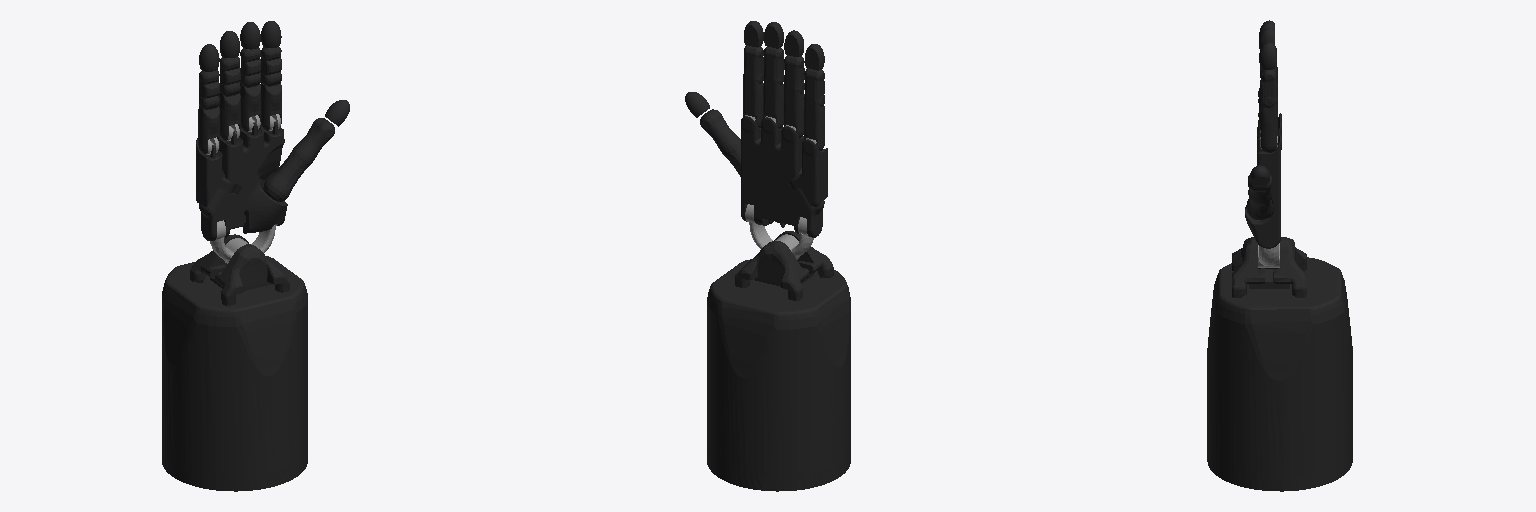
--- Facts derived from the render (not from the file) ---
3 views of the same robot in one strip: view 1: azimuth 30°, elevation 25°; view 2: azimuth 150°, elevation 25°; view 3: azimuth 270°, elevation 25° (orthographic).
Robot: shadowhand_motor — 30 links, 29 joints (24 revolute, 5 fixed); root link forearm; default pose: every joint at zero.
Visible links, largest first — view 1: forearm, palm, lfmetacarpal, thproximal, thmiddle, wrist, lfproximal, ffproximal, rfproximal, ffmiddle, rfmiddle, lfmiddle (+2 smaller); view 2: forearm, palm, lfmetacarpal, wrist, thmiddle, lfproximal, mfproximal, rfproximal, ffproximal, rfmiddle, mfmiddle, lfmiddle (+1 smaller); view 3: forearm, palm, ffproximal, ffmiddle.
Boxes of the visible links, x1,y1,x2,y2 form: forearm: (162, 234, 307, 491); palm: (199, 122, 287, 240); lfmetacarpal: (196, 138, 236, 206); thproximal: (263, 150, 308, 202); thmiddle: (293, 118, 334, 165); wrist: (210, 220, 277, 263); lfproximal: (198, 105, 219, 154); ffproximal: (260, 82, 281, 130); rfproximal: (219, 92, 240, 140); ffmiddle: (261, 47, 281, 86); rfmiddle: (220, 57, 240, 96); lfmiddle: (199, 70, 219, 109); forearm: (707, 231, 850, 491); palm: (741, 116, 824, 237); lfmetacarpal: (788, 139, 827, 206); wrist: (745, 204, 813, 259); thmiddle: (700, 109, 740, 156); lfproximal: (804, 101, 824, 150); mfproximal: (763, 79, 783, 128); rfproximal: (784, 87, 804, 137); ffproximal: (743, 78, 763, 127); rfmiddle: (784, 55, 804, 93); mfmiddle: (763, 46, 784, 84); lfmiddle: (804, 68, 824, 106); forearm: (1207, 237, 1352, 491); palm: (1245, 114, 1281, 248); ffproximal: (1258, 101, 1277, 152); ffmiddle: (1260, 68, 1277, 107).
Bounding box of the posed robot: 0.1788 × 0.1351 × 0.4478 m (x, y, z).
23 mesh visuals loaded from 10 distinct referenced files (10 OBJ).

robot.urdf — shadowhand_motor:
<?xml version="1.0" ?>
<!-- =================================================================================== -->
<!-- |    This document was autogenerated by xacro from robots/shadowhand_motor_ellipsoid.urdf.xacro | -->
<!-- |    EDITING THIS FILE BY HAND IS NOT RECOMMENDED                                 | -->
<!-- =================================================================================== -->
<robot name="shadowhand_motor" xmlns:body="http://playerstage.sourceforge.net/gazebo/xmlschema/#body" xmlns:controller="http://playerstage.sourceforge.net/gazebo/xmlschema/#controller" xmlns:geom="http://playerstage.sourceforge.net/gazebo/xmlschema/#geom" xmlns:interface="http://playerstage.sourceforge.net/gazebo/xmlschema/#interface" xmlns:joint="http://playerstage.sourceforge.net/gazebo/xmlschema/#slider" xmlns:sensor="http://playerstage.sourceforge.net/gazebo/xmlschema/#sensor" xmlns:xacro="http://ros.org/wiki/xacro">
  <material name="Blue">
    <color rgba="0.0 0.0 0.8 1.0"/>
  </material>
  <material name="Green">
    <color rgba="0.0 0.8 0.0 1.0"/>
  </material>
  <material name="BiotacGreen">
    <color rgba="0.31 0.85 0.42 1.0"/>
  </material>
  <material name="Grey">
    <color rgba="0.2 0.2 0.2 1.0"/>
  </material>
  <material name="LightGrey">
    <color rgba="0.6 0.6 0.6 1.0"/>
  </material>
  <material name="Red">
    <color rgba="0.8 0.0 0.0 1.0"/>
  </material>
  <material name="White">
    <color rgba="1.0 1.0 1.0 1.0"/>
  </material>
  <gazebo>
    <controller:sr_gazebo_ros_controller_manager name="sr_gazebo_ros_controller_manager" plugin="libsr_gazebo_ros_controller_manager.so">
      <alwaysOn>true</alwaysOn>
      <updateRate>1000.0</updateRate>
    </controller:sr_gazebo_ros_controller_manager>
  </gazebo>
  <link name="forearm">
    <inertial>
      <origin rpy="0 0 0" xyz="0 0 0.09"/>
      <mass value="3.0"/>
      <inertia ixx="1.0" ixy="0.0" ixz="0.0" iyy="1.0" iyz="0.0" izz="1.0"/>
    </inertial>
    <visual>
      <origin rpy="0 0 0" xyz="0 0 0"/>
      <geometry name="shadow_forearm_geom">
        <mesh filename="meshes/forearm.obj" />
      </geometry>
      <material name="Grey"/>
    </visual>
    <collision>
      <origin rpy="0 0 0" xyz="0 0 0.09"/>
      <geometry name="shadow_forearm_collision">
        <cylinder length="0.180" radius="0.06"/>
      </geometry>
    </collision>
  </link>
  <gazebo reference="forearm">
    <material>Gazebo/Grey</material>
    <selfCollide>false</selfCollide>
  </gazebo>
  <link name="wrist">
    <inertial>
      <origin rpy="0 0 0" xyz="0 0.0 0.0"/>
      <!--<insert_block name="origin" />-->
      <mass value="0.1"/>
      <inertia ixx="0.120" ixy="0.0" ixz="0.0" iyy="0.148" iyz="0.0" izz="0.0438"/>
    </inertial>
    <visual>
      <origin rpy="0 0 0" xyz="0 0 0"/>
      <geometry name="wrist_visual">
        <mesh filename="meshes/wrist.obj" />
      </geometry>
      <material name="LightGrey"/>
    </visual>
    <collision>
      <origin rpy="0 0 0" xyz="0 0 0"/>
      <geometry name="wrist_collision_geom">
        <box size="0.02 0.02 0.02"/>
      </geometry>
    </collision>
  </link>
  <gazebo reference="wrist">
    <material>PR2/Grey2</material>
    <selfCollide>false</selfCollide>
  </gazebo>
  <joint name="WRJ2" type="revolute">
    <parent link="forearm"/>
    <child link="wrist"/>
    <!--<origin xyz="0 -0.010 0.213" rpy="0 0 0" />-->
    <origin rpy="0 0 0" xyz="0 -0.010 0.213"/>
    <axis xyz="0 1 0"/>
    <limit effort="5" lower="-0.52359877559829882" upper="0.17453292519943295" velocity="1.0"/>
    <dynamics damping="100.5"/>
  </joint>
  <transmission name="wrist_transmission" type="sr_mechanism_meshes/SimpleTransmission">
    <actuator name="WRJ2"/>
    <joint name="WRJ2"/>
    <mechanicalReduction>1</mechanicalReduction>
    <motorTorqueConstant>1</motorTorqueConstant>
    <pulsesPerRevolution>90000</pulsesPerRevolution>
  </transmission>
  <link name="palm">
    <inertial>
      <origin rpy="0 0 0" xyz="0 0 0.035"/>
      <mass value="0.3"/>
      <inertia ixx="0.5" ixy="0.0" ixz="0.0" iyy="0.5" iyz="0.0" izz="0.3"/>
    </inertial>
    <visual>
      <origin rpy="0 0 0" xyz="0 0 0"/>
      <geometry name="palm_visual">
        <mesh filename="meshes/palm.obj" />
      </geometry>
      <material name="Grey"/>
    </visual>
    <collision>
      <origin rpy="0 0 0" xyz="0.005 0 0.035"/>
      <geometry name="palm_collision_geom">
        <box size="0.05 0.02 0.07"/>
      </geometry>
    </collision>
  </link>
  <gazebo reference="palm">
    <sensor:contact name="palm_contact_sensor">
      <geom>palm_geom</geom>
      <updateRate>100.0</updateRate>
      <controller:gazebo_ros_bumper name="palm_gazebo_ros_bumper_controller" plugin="libgazebo_ros_bumper.so">
        <alwaysOn>true</alwaysOn>
        <updateRate>100.0</updateRate>
        <frameName>palm</frameName>
        <bumperTopicName>palm_bumper</bumperTopicName>
        <interface:bumper name="palm_gazebo_ros_bumper_iface"/>
      </controller:gazebo_ros_bumper>
    </sensor:contact>
    <material>Gazebo/Grey</material>
  </gazebo>
  <joint name="WRJ1" type="revolute">
    <parent link="wrist"/>
    <child link="palm"/>
    <origin rpy="0 0 0" xyz="0 0 0.034"/>
    <axis xyz="1 0 0"/>
    <limit effort="5" lower="-0.78539816339744828" upper="0.6108652381980153" velocity="1.0"/>
    <dynamics damping="100.5"/>
  </joint>
  <transmission name="palm_transmission" type="sr_mechanism_meshes/SimpleTransmission">
    <actuator name="WRJ1"/>
    <joint name="WRJ1"/>
    <mechanicalReduction>1</mechanicalReduction>
    <motorTorqueConstant>1</motorTorqueConstant>
    <pulsesPerRevolution>90000</pulsesPerRevolution>
  </transmission>
  <link name="ffknuckle">
    <inertial>
      <origin rpy="0 0 0" xyz="0 0 0"/>
      <!--<insert_block name="origin" /> -->
      <mass value="0.008"/>
      <inertia ixx="0.0" ixy="0.0" ixz="0.0" iyy="0.1" iyz="0.0" izz="0.0"/>
    </inertial>
    <visual>
      <origin rpy="0 0 0" xyz="0 0 0.0005"/>
      <geometry name="knuckle_visual">
        <mesh filename="meshes/knuckle.obj" />
      </geometry>
      <material name="LightGrey"/>
    </visual>
    <collision>
      <origin rpy="0 0 0" xyz="0 0 0"/>
      <geometry name="knuckle_collision_geom">
        <box size="0.005 0.005 0.005"/>
      </geometry>
    </collision>
  </link>
  <gazebo reference="ffknuckle">
    <sensor:contact name="ffknuckle_contact_sensor">
      <geom>ffknuckle_geom</geom>
      <updateRate>100.0</updateRate>
      <controller:gazebo_ros_bumper name="ffknuckle_gazebo_ros_bumper_controller" plugin="libgazebo_ros_bumper.so">
        <alwaysOn>true</alwaysOn>
        <updateRate>100.0</updateRate>
        <frameName>ffknuckle</frameName>
        <bumperTopicName>ffknuckle_bumper</bumperTopicName>
        <interface:bumper name="ffknuckle_gazebo_ros_bumper_iface"/>
      </controller:gazebo_ros_bumper>
    </sensor:contact>
    <material>PR2/Grey2</material>
  </gazebo>
  <joint name="FFJ4" type="revolute">
    <parent link="palm"/>
    <child link="ffknuckle"/>
    <!--<origin xyz="0.033 0 0.095" rpy="0 0 0" />-->
    <origin rpy="0 0 0" xyz="0.033 0 0.095"/>
    <axis xyz="0 -1 0"/>
    <limit effort="10" lower="-0.43633231299858238" upper="0.43633231299858238" velocity="1.0"/>
    <dynamics damping="50.5"/>
  </joint>
  <transmission name="ffknuckle_transmission" type="sr_mechanism_meshes/SimpleTransmission">
    <actuator name="FFJ4"/>
    <joint name="FFJ4"/>
    <mechanicalReduction>1</mechanicalReduction>
    <motorTorqueConstant>1</motorTorqueConstant>
    <pulsesPerRevolution>90000</pulsesPerRevolution>
  </transmission>
  <link name="ffproximal">
    <inertial>
      <mass value="0.014"/>
      <origin xyz="0 0 0.0225"/>
      <inertia ixx="0.1" ixy="0.0" ixz="0.0" iyy="0.1" iyz="0.0" izz="0.0"/>
    </inertial>
    <visual>
      <origin rpy="0 0 0" xyz="0 0 0"/>
      <geometry name="proximal_visual">
        <mesh filename="meshes/F3.obj" />
      </geometry>
      <material name="Grey"/>
    </visual>
    <collision>
      <origin rpy="0 0 0 " xyz="0 0 0.025"/>
      <geometry name="proximal_collision_geom">
        <box size="0.008 0.008 0.04"/>
      </geometry>
    </collision>
  </link>
  <gazebo reference="ffproximal">
    <sensor:contact name="ffproximal_contact_sensor">
      <geom>ffproximal_geom</geom>
      <updateRate>100.0</updateRate>
      <controller:gazebo_ros_bumper name="ffproximal_gazebo_ros_bumper_controller" plugin="libgazebo_ros_bumper.so">
        <alwaysOn>true</alwaysOn>
        <updateRate>100.0</updateRate>
        <frameName>ffproximal</frameName>
        <bumperTopicName>ffproximal_bumper</bumperTopicName>
        <interface:bumper name="ffproximal_gazebo_ros_bumper_iface"/>
      </controller:gazebo_ros_bumper>
    </sensor:contact>
    <material>Gazebo/Grey</material>
    <selfCollide>true</selfCollide>
  </gazebo>
  <joint name="FFJ3" type="revolute">
    <parent link="ffknuckle"/>
    <child link="ffproximal"/>
    <origin rpy="0 0 0" xyz="0 0 0"/>
    <axis xyz="1 0 0"/>
    <limit effort="10" lower="0" upper="1.57079632679" velocity="1.0"/>
    <dynamics damping="50.5"/>
  </joint>
  <transmission name="ffproximal_transmission" type="sr_mechanism_meshes/SimpleTransmission">
    <actuator name="FFJ3"/>
    <joint name="FFJ3"/>
    <mechanicalReduction>1</mechanicalReduction>
    <motorTorqueConstant>1</motorTorqueConstant>
    <pulsesPerRevolution>90000</pulsesPerRevolution>
  </transmission>
  <link name="ffmiddle">
    <inertial>
      <origin rpy="0 0 0" xyz="0 0 0.0125"/>
      <mass value="0.012"/>
      <inertia ixx="0.1" ixy="0.0" ixz="0.0" iyy="0.1" iyz="0.0" izz="0.0"/>
    </inertial>
    <visual>
      <origin rpy="0 0 0" xyz="0 0 0"/>
      <geometry name="middle_visual">
        <mesh filename="meshes/F2.obj" />
      </geometry>
      <material name="Grey"/>
    </visual>
    <collision>
      <origin rpy="0 0 0" xyz="0 0 0.0125"/>
      <geometry name="middle_collision_geom">
        <box size="0.008 0.008 0.015"/>
      </geometry>
    </collision>
  </link>
  <gazebo reference="ffmiddle">
    <sensor:contact name="ffmiddle_contact_sensor">
      <geom>ffmiddle_geom</geom>
      <updateRate>100.0</updateRate>
      <controller:gazebo_ros_bumper name="ffmiddle_gazebo_ros_bumper_controller" plugin="libgazebo_ros_bumper.so">
        <alwaysOn>true</alwaysOn>
        <updateRate>100.0</updateRate>
        <frameName>ffmiddle</frameName>
        <bumperTopicName>ffmiddle_bumper</bumperTopicName>
        <interface:bumper name="ffmiddle_gazebo_ros_bumper_iface"/>
      </controller:gazebo_ros_bumper>
    </sensor:contact>
    <material>Gazebo/Grey</material>
    <selfCollide>true</selfCollide>
  </gazebo>
  <joint name="FFJ2" type="revolute">
    <parent link="ffproximal"/>
    <child link="ffmiddle"/>
    <origin rpy="0 0 0" xyz="0 0 0.045"/>
    <axis xyz="1 0 0"/>
    <limit effort="10" lower="0" upper="1.57079632679" velocity="1.0"/>
    <dynamics damping="50.5"/>
  </joint>
  <transmission name="ffmiddle_transmission" type="sr_mechanism_meshes/J0Transmission">
    <actuator name="FFJ0"/>
    <joint1 name="FFJ1"/>
    <joint2 name="FFJ2"/>
    <mechanicalReduction>1</mechanicalReduction>
    <motorTorqueConstant>1</motorTorqueConstant>
    <pulsesPerRevolution>90000</pulsesPerRevolution>
  </transmission>
  <link name="ffdistal">
    <inertial>
      <mass value="0.010"/>
      <origin xyz="0 0 0.013"/>
      <inertia ixx="0.1" ixy="0.0" ixz="0.0" iyy="0.1" iyz="0.0" izz="0.0"/>
    </inertial>
    <visual>
      <origin rpy="0 0 0" xyz="0 0 0"/>
      <geometry name="distal_visual">
        <mesh filename="meshes/distal_ellipsoid.obj" />
      </geometry>
      <material name="Grey"/>
    </visual>
    <!--      <visual>
	   <origin xyz="0 0 0" rpy="0 0 0" />
	   <geometry name="nano17">
	   <mesh filename="meshes/nano17.obj"  />
	   </geometry>
	   <material name="Grey" />
	   </visual>-->
    <collision>
      <origin rpy="0 0 0" xyz="0 0 0"/>
      <geometry name="distal_collision_geom">
        <mesh filename="meshes/distal_ellipsoid.obj" />
      </geometry>
    </collision>
  </link>
  <gazebo reference="ffdistal">
    <sensor:contact name="ffdistal_contact_sensor">
      <geom>ffdistal_geom</geom>
      <updateRate>100.0</updateRate>
      <controller:gazebo_ros_bumper name="ffdistal_gazebo_ros_bumper_controller" plugin="libgazebo_ros_bumper.so">
        <alwaysOn>true</alwaysOn>
        <updateRate>100.0</updateRate>
        <frameName>ffdistal</frameName>
        <bumperTopicName>ffdistal_bumper</bumperTopicName>
        <interface:bumper name="ffdistal_gazebo_ros_bumper_iface"/>
      </controller:gazebo_ros_bumper>
    </sensor:contact>
    <mu1 value="500.0"/>
    <mu2 value="500.0"/>
    <kp value="10000000.0"/>
    <kd value="1.0"/>
    <material>Gazebo/Grey</material>
    <selfCollide>true</selfCollide>
  </gazebo>
  <joint name="FFJ1" type="revolute">
    <parent link="ffmiddle"/>
    <child link="ffdistal"/>
    <origin rpy="0 0 0" xyz="0 0 0.025"/>
    <axis xyz="1 0 0"/>
    <limit effort="10" lower="0" upper="1.57079632679" velocity="1.0"/>
    <dynamics damping="50.5"/>
  </joint>
  <link name="fftip">
    <inertial>
      <mass value="0.001"/>
      <inertia ixx="0.0" ixy="0.0" ixz="0.0" iyy="0.0" iyz="0.0" izz="0.0"/>
    </inertial>
  </link>
  <joint name="FFtip" type="fixed">
    <parent link="ffdistal"/>
    <child link="fftip"/>
    <origin rpy="0 0 0" xyz="0 0 0.026"/>
  </joint>
  <link name="mfknuckle">
    <inertial>
      <origin rpy="0 0 0" xyz="0 0 0"/>
      <!--<insert_block name="origin" /> -->
      <mass value="0.008"/>
      <inertia ixx="0.0" ixy="0.0" ixz="0.0" iyy="0.1" iyz="0.0" izz="0.0"/>
    </inertial>
    <visual>
      <origin rpy="0 0 0" xyz="0 0 0.0005"/>
      <geometry name="knuckle_visual">
        <mesh filename="meshes/knuckle.obj" />
      </geometry>
      <material name="LightGrey"/>
    </visual>
    <collision>
      <origin rpy="0 0 0" xyz="0 0 0"/>
      <geometry name="knuckle_collision_geom">
        <box size="0.005 0.005 0.005"/>
      </geometry>
    </collision>
  </link>
  <gazebo reference="mfknuckle">
    <sensor:contact name="mfknuckle_contact_sensor">
      <geom>mfknuckle_geom</geom>
      <updateRate>100.0</updateRate>
      <controller:gazebo_ros_bumper name="mfknuckle_gazebo_ros_bumper_controller" plugin="libgazebo_ros_bumper.so">
        <alwaysOn>true</alwaysOn>
        <updateRate>100.0</updateRate>
        <frameName>mfknuckle</frameName>
        <bumperTopicName>mfknuckle_bumper</bumperTopicName>
        <interface:bumper name="mfknuckle_gazebo_ros_bumper_iface"/>
      </controller:gazebo_ros_bumper>
    </sensor:contact>
    <material>PR2/Grey2</material>
  </gazebo>
  <joint name="MFJ4" type="revolute">
    <parent link="palm"/>
    <child link="mfknuckle"/>
    <!--<origin xyz="0.033 0 0.095" rpy="0 0 0" />-->
    <origin rpy="0 0 0" xyz="0.011 0 0.099"/>
    <axis xyz="0 -1 0"/>
    <limit effort="10" lower="-0.43633231299858238" upper="0.43633231299858238" velocity="1.0"/>
    <dynamics damping="50.5"/>
  </joint>
  <transmission name="mfknuckle_transmission" type="sr_mechanism_meshes/SimpleTransmission">
    <actuator name="MFJ4"/>
    <joint name="MFJ4"/>
    <mechanicalReduction>1</mechanicalReduction>
    <motorTorqueConstant>1</motorTorqueConstant>
    <pulsesPerRevolution>90000</pulsesPerRevolution>
  </transmission>
  <link name="mfproximal">
    <inertial>
      <mass value="0.014"/>
      <origin xyz="0 0 0.0225"/>
      <inertia ixx="0.1" ixy="0.0" ixz="0.0" iyy="0.1" iyz="0.0" izz="0.0"/>
    </inertial>
    <visual>
      <origin rpy="0 0 0" xyz="0 0 0"/>
      <geometry name="proximal_visual">
        <mesh filename="meshes/F3.obj" />
      </geometry>
      <material name="Grey"/>
    </visual>
    <collision>
      <origin rpy="0 0 0 " xyz="0 0 0.025"/>
      <geometry name="proximal_collision_geom">
        <box size="0.008 0.008 0.04"/>
      </geometry>
    </collision>
  </link>
  <gazebo reference="mfproximal">
    <sensor:contact name="mfproximal_contact_sensor">
      <geom>mfproximal_geom</geom>
      <updateRate>100.0</updateRate>
      <controller:gazebo_ros_bumper name="mfproximal_gazebo_ros_bumper_controller" plugin="libgazebo_ros_bumper.so">
        <alwaysOn>true</alwaysOn>
        <updateRate>100.0</updateRate>
        <frameName>mfproximal</frameName>
        <bumperTopicName>mfproximal_bumper</bumperTopicName>
        <interface:bumper name="mfproximal_gazebo_ros_bumper_iface"/>
      </controller:gazebo_ros_bumper>
    </sensor:contact>
    <material>Gazebo/Grey</material>
    <selfCollide>true</selfCollide>
  </gazebo>
  <joint name="MFJ3" type="revolute">
    <parent link="mfknuckle"/>
    <child link="mfproximal"/>
    <origin rpy="0 0 0" xyz="0 0 0"/>
    <axis xyz="1 0 0"/>
    <limit effort="10" lower="0" upper="1.57079632679" velocity="1.0"/>
    <dynamics damping="50.5"/>
  </joint>
  <transmission name="mfproximal_transmission" type="sr_mechanism_meshes/SimpleTransmission">
    <actuator name="MFJ3"/>
    <joint name="MFJ3"/>
    <mechanicalReduction>1</mechanicalReduction>
    <motorTorqueConstant>1</motorTorqueConstant>
    <pulsesPerRevolution>90000</pulsesPerRevolution>
  </transmission>
  <link name="mfmiddle">
    <inertial>
      <origin rpy="0 0 0" xyz="0 0 0.0125"/>
      <mass value="0.012"/>
      <inertia ixx="0.1" ixy="0.0" ixz="0.0" iyy="0.1" iyz="0.0" izz="0.0"/>
    </inertial>
    <visual>
      <origin rpy="0 0 0" xyz="0 0 0"/>
      <geometry name="middle_visual">
        <mesh filename="meshes/F2.obj" />
      </geometry>
      <material name="Grey"/>
    </visual>
    <collision>
      <origin rpy="0 0 0" xyz="0 0 0.0125"/>
      <geometry name="middle_collision_geom">
        <box size="0.008 0.008 0.015"/>
      </geometry>
    </collision>
  </link>
  <gazebo reference="mfmiddle">
    <sensor:contact name="mfmiddle_contact_sensor">
      <geom>mfmiddle_geom</geom>
      <updateRate>100.0</updateRate>
      <controller:gazebo_ros_bumper name="mfmiddle_gazebo_ros_bumper_controller" plugin="libgazebo_ros_bumper.so">
        <alwaysOn>true</alwaysOn>
        <updateRate>100.0</updateRate>
        <frameName>mfmiddle</frameName>
        <bumperTopicName>mfmiddle_bumper</bumperTopicName>
        <interface:bumper name="mfmiddle_gazebo_ros_bumper_iface"/>
      </controller:gazebo_ros_bumper>
    </sensor:contact>
    <material>Gazebo/Grey</material>
    <selfCollide>true</selfCollide>
  </gazebo>
  <joint name="MFJ2" type="revolute">
    <parent link="mfproximal"/>
    <child link="mfmiddle"/>
    <origin rpy="0 0 0" xyz="0 0 0.045"/>
    <axis xyz="1 0 0"/>
    <limit effort="10" lower="0" upper="1.57079632679" velocity="1.0"/>
    <dynamics damping="50.5"/>
  </joint>
  <transmission name="mfmiddle_transmission" type="sr_mechanism_meshes/J0Transmission">
    <actuator name="MFJ0"/>
    <joint1 name="MFJ1"/>
    <joint2 name="MFJ2"/>
    <mechanicalReduction>1</mechanicalReduction>
    <motorTorqueConstant>1</motorTorqueConstant>
    <pulsesPerRevolution>90000</pulsesPerRevolution>
  </transmission>
  <link name="mfdistal">
    <inertial>
      <mass value="0.010"/>
      <origin xyz="0 0 0.013"/>
      <inertia ixx="0.1" ixy="0.0" ixz="0.0" iyy="0.1" iyz="0.0" izz="0.0"/>
    </inertial>
    <visual>
      <origin rpy="0 0 0" xyz="0 0 0"/>
      <geometry name="distal_visual">
        <mesh filename="meshes/distal_ellipsoid.obj" />
      </geometry>
      <material name="Grey"/>
    </visual>
    <!--      <visual>
	   <origin xyz="0 0 0" rpy="0 0 0" />
	   <geometry name="nano17">
	   <mesh filename="meshes/nano17.obj"  />
	   </geometry>
	   <material name="Grey" />
	   </visual>-->
    <collision>
      <origin rpy="0 0 0" xyz="0 0 0"/>
      <geometry name="distal_collision_geom">
        <mesh filename="meshes/distal_ellipsoid.obj" />
      </geometry>
    </collision>
  </link>
  <gazebo reference="mfdistal">
    <sensor:contact name="mfdistal_contact_sensor">
      <geom>mfdistal_geom</geom>
      <updateRate>100.0</updateRate>
      <controller:gazebo_ros_bumper name="mfdistal_gazebo_ros_bumper_controller" plugin="libgazebo_ros_bumper.so">
        <alwaysOn>true</alwaysOn>
        <updateRate>100.0</updateRate>
        <frameName>mfdistal</frameName>
        <bumperTopicName>mfdistal_bumper</bumperTopicName>
        <interface:bumper name="mfdistal_gazebo_ros_bumper_iface"/>
      </controller:gazebo_ros_bumper>
    </sensor:contact>
    <mu1 value="500.0"/>
    <mu2 value="500.0"/>
    <kp value="10000000.0"/>
    <kd value="1.0"/>
    <material>Gazebo/Grey</material>
    <selfCollide>true</selfCollide>
  </gazebo>
  <joint name="MFJ1" type="revolute">
    <parent link="mfmiddle"/>
    <child link="mfdistal"/>
    <origin rpy="0 0 0" xyz="0 0 0.025"/>
    <axis xyz="1 0 0"/>
    <limit effort="10" lower="0" upper="1.57079632679" velocity="1.0"/>
    <dynamics damping="50.5"/>
  </joint>
  <link name="mftip">
    <inertial>
      <mass value="0.001"/>
      <inertia ixx="0.0" ixy="0.0" ixz="0.0" iyy="0.0" iyz="0.0" izz="0.0"/>
    </inertial>
  </link>
  <joint name="MFtip" type="fixed">
    <parent link="mfdistal"/>
    <child link="mftip"/>
    <origin rpy="0 0 0" xyz="0 0 0.026"/>
  </joint>
  <link name="rfknuckle">
    <inertial>
      <origin rpy="0 0 0" xyz="0 0 0"/>
      <!--<insert_block name="origin" /> -->
      <mass value="0.008"/>
      <inertia ixx="0.0" ixy="0.0" ixz="0.0" iyy="0.1" iyz="0.0" izz="0.0"/>
    </inertial>
    <visual>
      <origin rpy="0 0 0" xyz="0 0 0.0005"/>
      <geometry name="knuckle_visual">
        <mesh filename="meshes/knuckle.obj" />
      </geometry>
      <material name="LightGrey"/>
    </visual>
    <collision>
      <origin rpy="0 0 0" xyz="0 0 0"/>
      <geometry name="knuckle_collision_geom">
        <box size="0.005 0.005 0.005"/>
      </geometry>
    </collision>
  </link>
  <gazebo reference="rfknuckle">
    <sensor:contact name="rfknuckle_contact_sensor">
      <geom>rfknuckle_geom</geom>
      <updateRate>100.0</updateRate>
      <controller:gazebo_ros_bumper name="rfknuckle_gazebo_ros_bumper_controller" plugin="libgazebo_ros_bumper.so">
        <alwaysOn>true</alwaysOn>
        <updateRate>100.0</updateRate>
        <frameName>rfknuckle</frameName>
        <bumperTopicName>rfknuckle_bumper</bumperTopicName>
        <interface:bumper name="rfknuckle_gazebo_ros_bumper_iface"/>
      </controller:gazebo_ros_bumper>
    </sensor:contact>
    <material>PR2/Grey2</material>
  </gazebo>
  <joint name="RFJ4" type="revolute">
    <parent link="palm"/>
    <child link="rfknuckle"/>
    <!--<origin xyz="0.033 0 0.095" rpy="0 0 0" />-->
    <origin rpy="0 0 0" xyz="-0.011 0 0.095"/>
    <axis xyz="0 1 0"/>
    <limit effort="10" lower="-0.43633231299858238" upper="0.43633231299858238" velocity="1.0"/>
    <dynamics damping="50.5"/>
  </joint>
  <transmission name="rfknuckle_transmission" type="sr_mechanism_meshes/SimpleTransmission">
    <actuator name="RFJ4"/>
    <joint name="RFJ4"/>
    <mechanicalReduction>1</mechanicalReduction>
    <motorTorqueConstant>1</motorTorqueConstant>
    <pulsesPerRevolution>90000</pulsesPerRevolution>
  </transmission>
  <link name="rfproximal">
    <inertial>
      <mass value="0.014"/>
      <origin xyz="0 0 0.0225"/>
      <inertia ixx="0.1" ixy="0.0" ixz="0.0" iyy="0.1" iyz="0.0" izz="0.0"/>
    </inertial>
    <visual>
      <origin rpy="0 0 0" xyz="0 0 0"/>
      <geometry name="proximal_visual">
        <mesh filename="meshes/F3.obj" />
      </geometry>
      <material name="Grey"/>
    </visual>
    <collision>
      <origin rpy="0 0 0 " xyz="0 0 0.025"/>
      <geometry name="proximal_collision_geom">
        <box size="0.008 0.008 0.04"/>
      </geometry>
    </collision>
  </link>
  <gazebo reference="rfproximal">
    <sensor:contact name="rfproximal_contact_sensor">
      <geom>rfproximal_geom</geom>
      <updateRate>100.0</updateRate>
      <controller:gazebo_ros_bumper name="rfproximal_gazebo_ros_bumper_controller" plugin="libgazebo_ros_bumper.so">
        <alwaysOn>true</alwaysOn>
        <updateRate>100.0</updateRate>
        <frameName>rfproximal</frameName>
        <bumperTopicName>rfproximal_bumper</bumperTopicName>
        <interface:bumper name="rfproximal_gazebo_ros_bumper_iface"/>
      </controller:gazebo_ros_bumper>
    </sensor:contact>
    <material>Gazebo/Grey</material>
    <selfCollide>true</selfCollide>
  </gazebo>
  <joint name="RFJ3" type="revolute">
    <parent link="rfknuckle"/>
    <child link="rfproximal"/>
    <origin rpy="0 0 0" xyz="0 0 0"/>
    <axis xyz="1 0 0"/>
    <limit effort="10" lower="0" upper="1.57079632679" velocity="1.0"/>
    <dynamics damping="50.5"/>
  </joint>
  <transmission name="rfproximal_transmission" type="sr_mechanism_meshes/SimpleTransmission">
    <actuator name="RFJ3"/>
    <joint name="RFJ3"/>
    <mechanicalReduction>1</mechanicalReduction>
    <motorTorqueConstant>1</motorTorqueConstant>
    <pulsesPerRevolution>90000</pulsesPerRevolution>
  </transmission>
  <link name="rfmiddle">
    <inertial>
      <origin rpy="0 0 0" xyz="0 0 0.0125"/>
      <mass value="0.012"/>
      <inertia ixx="0.1" ixy="0.0" ixz="0.0" iyy="0.1" iyz="0.0" izz="0.0"/>
    </inertial>
    <visual>
      <origin rpy="0 0 0" xyz="0 0 0"/>
      <geometry name="middle_visual">
        <mesh filename="meshes/F2.obj" />
      </geometry>
      <material name="Grey"/>
    </visual>
    <collision>
      <origin rpy="0 0 0" xyz="0 0 0.0125"/>
      <geometry name="middle_collision_geom">
        <box size="0.008 0.008 0.015"/>
      </geometry>
    </collision>
  </link>
  <gazebo reference="rfmiddle">
    <sensor:contact name="rfmiddle_contact_sensor">
      <geom>rfmiddle_geom</geom>
      <updateRate>100.0</updateRate>
      <controller:gazebo_ros_bumper name="rfmiddle_gazebo_ros_bumper_controller" plugin="libgazebo_ros_bumper.so">
        <alwaysOn>true</alwaysOn>
        <updateRate>100.0</updateRate>
        <frameName>rfmiddle</frameName>
        <bumperTopicName>rfmiddle_bumper</bumperTopicName>
        <interface:bumper name="rfmiddle_gazebo_ros_bumper_iface"/>
      </controller:gazebo_ros_bumper>
    </sensor:contact>
    <material>Gazebo/Grey</material>
    <selfCollide>true</selfCollide>
  </gazebo>
  <joint name="RFJ2" type="revolute">
    <parent link="rfproximal"/>
    <child link="rfmiddle"/>
    <origin rpy="0 0 0" xyz="0 0 0.045"/>
    <axis xyz="1 0 0"/>
    <limit effort="10" lower="0" upper="1.57079632679" velocity="1.0"/>
    <dynamics damping="50.5"/>
  </joint>
  <transmission name="rfmiddle_transmission" type="sr_mechanism_meshes/J0Transmission">
    <actuator name="RFJ0"/>
    <joint1 name="RFJ1"/>
    <joint2 name="RFJ2"/>
    <mechanicalReduction>1</mechanicalReduction>
    <motorTorqueConstant>1</motorTorqueConstant>
    <pulsesPerRevolution>90000</pulsesPerRevolution>
  </transmission>
  <link name="rfdistal">
    <inertial>
      <mass value="0.010"/>
      <origin xyz="0 0 0.013"/>
      <inertia ixx="0.1" ixy="0.0" ixz="0.0" iyy="0.1" iyz="0.0" izz="0.0"/>
    </inertial>
    <visual>
      <origin rpy="0 0 0" xyz="0 0 0"/>
      <geometry name="distal_visual">
        <mesh filename="meshes/distal_ellipsoid.obj" />
      </geometry>
      <material name="Grey"/>
    </visual>
    <!--      <visual>
	   <origin xyz="0 0 0" rpy="0 0 0" />
	   <geometry name="nano17">
	   <mesh filename="meshes/nano17.obj"  />
	   </geometry>
	   <material name="Grey" />
	   </visual>-->
    <collision>
      <origin rpy="0 0 0" xyz="0 0 0"/>
      <geometry name="distal_collision_geom">
        <mesh filename="meshes/distal_ellipsoid.obj" />
      </geometry>
    </collision>
  </link>
  <gazebo reference="rfdistal">
    <sensor:contact name="rfdistal_contact_sensor">
      <geom>rfdistal_geom</geom>
      <updateRate>100.0</updateRate>
      <controller:gazebo_ros_bumper name="rfdistal_gazebo_ros_bumper_controller" plugin="libgazebo_ros_bumper.so">
        <alwaysOn>true</alwaysOn>
        <updateRate>100.0</updateRate>
        <frameName>rfdistal</frameName>
        <bumperTopicName>rfdistal_bumper</bumperTopicName>
        <interface:bumper name="rfdistal_gazebo_ros_bumper_iface"/>
      </controller:gazebo_ros_bumper>
    </sensor:contact>
    <mu1 value="500.0"/>
    <mu2 value="500.0"/>
    <kp value="10000000.0"/>
    <kd value="1.0"/>
    <material>Gazebo/Grey</material>
    <selfCollide>true</selfCollide>
  </gazebo>
  <joint name="RFJ1" type="revolute">
    <parent link="rfmiddle"/>
    <child link="rfdistal"/>
    <origin rpy="0 0 0" xyz="0 0 0.025"/>
    <axis xyz="1 0 0"/>
    <limit effort="10" lower="0" upper="1.57079632679" velocity="1.0"/>
    <dynamics damping="50.5"/>
  </joint>
  <link name="rftip">
    <inertial>
      <mass value="0.001"/>
      <inertia ixx="0.0" ixy="0.0" ixz="0.0" iyy="0.0" iyz="0.0" izz="0.0"/>
    </inertial>
  </link>
  <joint name="RFtip" type="fixed">
    <parent link="rfdistal"/>
    <child link="rftip"/>
    <origin rpy="0 0 0" xyz="0 0 0.026"/>
  </joint>
  <link name="lfmetacarpal">
    <inertial>
      <origin rpy="0 0 0" xyz="0 0 0.04"/>
      <mass value="0.075"/>
      <inertia ixx="0.1" ixy="0.0" ixz="0.0" iyy="0.1" iyz="0.0" izz="0.1"/>
    </inertial>
    <visual>
      <origin rpy="0 0 0" xyz="0 0 0"/>
      <geometry name="lfmetacarpal_visual">
        <mesh filename="meshes/lfmetacarpal.obj" />
      </geometry>
      <material name="Grey"/>
    </visual>
    <collision>
      <origin rpy="0 0 0" xyz="0 0 0.04"/>
      <geometry name="lfmetacarpal_collision_geom">
        <box size="0.008 0.008 0.03"/>
      </geometry>
    </collision>
  </link>
  <gazebo reference="lfmetacarpal">
    <sensor:contact name="lfmetacarpal_contact_sensor">
      <geom>lfmetacarpal_geom</geom>
      <updateRate>100.0</updateRate>
      <controller:gazebo_ros_bumper name="lfmetacarpal_gazebo_ros_bumper_controller" plugin="libgazebo_ros_bumper.so">
        <alwaysOn>true</alwaysOn>
        <updateRate>100.0</updateRate>
        <frameName>lfmetacarpal</frameName>
        <bumperTopicName>lfmetacarpal_bumper</bumperTopicName>
        <interface:bumper name="lfmetacarpal_gazebo_ros_bumper_iface"/>
      </controller:gazebo_ros_bumper>
    </sensor:contact>
    <material>Gazebo/Grey</material>
  </gazebo>
  <joint name="LFJ5" type="revolute">
    <parent link="palm"/>
    <child link="lfmetacarpal"/>
    <origin rpy="0 0 0" xyz="-0.033 0 0.02071"/>
    <axis xyz="0.573576436 0 0.819152044"/>
    <limit effort="10" lower="0" upper="0.69813170079773179" velocity="1.0"/>
    <dynamics damping="50.5"/>
  </joint>
  <transmission name="lfmetacarpal_transmission" type="sr_mechanism_meshes/SimpleTransmission">
    <actuator name="LFJ5"/>
    <joint name="LFJ5"/>
    <mechanicalReduction>1</mechanicalReduction>
    <motorTorqueConstant>1</motorTorqueConstant>
    <pulsesPerRevolution>90000</pulsesPerRevolution>
  </transmission>
  <link name="lfknuckle">
    <inertial>
      <origin rpy="0 0 0" xyz="0 0 0.06579"/>
      <mass value="0.008"/>
      <inertia ixx="0.1" ixy="0.0" ixz="0.0" iyy="0.1" iyz="0.0" izz="0.1"/>
    </inertial>
    <visual>
      <origin rpy="0 0 0" xyz="0 0 0"/>
      <geometry name="knuckle_visual">
        <mesh filename="meshes/knuckle.obj" />
      </geometry>
      <material name="LightGrey"/>
    </visual>
    <collision>
      <origin rpy="0 0 0" xyz="0 0 0"/>
      <geometry name="knuckle_collision_geom">
        <box size="0.005 0.005 0.005"/>
      </geometry>
    </collision>
  </link>
  <gazebo reference="lfknuckle">
    <sensor:contact name="lfknuckle_contact_sensor">
      <geom>lfknuckle_geom</geom>
      <updateRate>100.0</updateRate>
      <controller:gazebo_ros_bumper name="lfknuckle_gazebo_ros_bumper_controller" plugin="libgazebo_ros_bumper.so">
        <alwaysOn>true</alwaysOn>
        <updateRate>100.0</updateRate>
        <frameName>lfknuckle</frameName>
        <bumperTopicName>lfknuckle_bumper</bumperTopicName>
        <interface:bumper name="lfknuckle_gazebo_ros_bumper_iface"/>
      </controller:gazebo_ros_bumper>
    </sensor:contact>
    <material>PR2/Grey2</material>
  </gazebo>
  <joint name="LFJ4" type="revolute">
    <parent link="lfmetacarpal"/>
    <child link="lfknuckle"/>
    <origin rpy="0 0 0" xyz="0 0 0.06579"/>
    <axis xyz="0 1 0"/>
    <limit effort="10" lower="-0.43633231299858238" upper="0.43633231299858238" velocity="1.0"/>
    <dynamics damping="50.5"/>
  </joint>
  <transmission name="lfknuckle_transmission" type="sr_mechanism_meshes/SimpleTransmission">
    <actuator name="LFJ4"/>
    <joint name="LFJ4"/>
    <mechanicalReduction>1</mechanicalReduction>
    <motorTorqueConstant>1</motorTorqueConstant>
    <pulsesPerRevolution>90000</pulsesPerRevolution>
  </transmission>
  <link name="lfproximal">
    <inertial>
      <mass value="0.014"/>
      <origin xyz="0 0 0.0225"/>
      <inertia ixx="0.1" ixy="0.0" ixz="0.0" iyy="0.1" iyz="0.0" izz="0.0"/>
    </inertial>
    <visual>
      <origin rpy="0 0 0" xyz="0 0 0"/>
      <geometry name="proximal_visual">
        <mesh filename="meshes/F3.obj" />
      </geometry>
      <material name="Grey"/>
    </visual>
    <collision>
      <origin rpy="0 0 0 " xyz="0 0 0.025"/>
      <geometry name="proximal_collision_geom">
        <box size="0.008 0.008 0.04"/>
      </geometry>
    </collision>
  </link>
  <gazebo reference="lfproximal">
    <sensor:contact name="lfproximal_contact_sensor">
      <geom>lfproximal_geom</geom>
      <updateRate>100.0</updateRate>
      <controller:gazebo_ros_bumper name="lfproximal_gazebo_ros_bumper_controller" plugin="libgazebo_ros_bumper.so">
        <alwaysOn>true</alwaysOn>
        <updateRate>100.0</updateRate>
        <frameName>lfproximal</frameName>
        <bumperTopicName>lfproximal_bumper</bumperTopicName>
        <interface:bumper name="lfproximal_gazebo_ros_bumper_iface"/>
      </controller:gazebo_ros_bumper>
    </sensor:contact>
    <material>Gazebo/Grey</material>
    <selfCollide>true</selfCollide>
  </gazebo>
  <joint name="LFJ3" type="revolute">
    <parent link="lfknuckle"/>
    <child link="lfproximal"/>
    <origin rpy="0 0 0" xyz="0 0 0"/>
    <axis xyz="1 0 0"/>
    <limit effort="10" lower="0" upper="1.57079632679" velocity="1.0"/>
    <dynamics damping="50.5"/>
  </joint>
  <transmission name="lfproximal_transmission" type="sr_mechanism_meshes/SimpleTransmission">
    <actuator name="LFJ3"/>
    <joint name="LFJ3"/>
    <mechanicalReduction>1</mechanicalReduction>
    <motorTorqueConstant>1</motorTorqueConstant>
    <pulsesPerRevolution>90000</pulsesPerRevolution>
  </transmission>
  <link name="lfmiddle">
    <inertial>
      <origin rpy="0 0 0" xyz="0 0 0.0125"/>
      <mass value="0.012"/>
      <inertia ixx="0.1" ixy="0.0" ixz="0.0" iyy="0.1" iyz="0.0" izz="0.0"/>
    </inertial>
    <visual>
      <origin rpy="0 0 0" xyz="0 0 0"/>
      <geometry name="middle_visual">
        <mesh filename="meshes/F2.obj" />
      </geometry>
      <material name="Grey"/>
    </visual>
    <collision>
      <origin rpy="0 0 0" xyz="0 0 0.0125"/>
      <geometry name="middle_collision_geom">
        <box size="0.008 0.008 0.015"/>
      </geometry>
    </collision>
  </link>
  <gazebo reference="lfmiddle">
    <sensor:contact name="lfmiddle_contact_sensor">
      <geom>lfmiddle_geom</geom>
      <updateRate>100.0</updateRate>
      <controller:gazebo_ros_bumper name="lfmiddle_gazebo_ros_bumper_controller" plugin="libgazebo_ros_bumper.so">
        <alwaysOn>true</alwaysOn>
        <updateRate>100.0</updateRate>
        <frameName>lfmiddle</frameName>
        <bumperTopicName>lfmiddle_bumper</bumperTopicName>
        <interface:bumper name="lfmiddle_gazebo_ros_bumper_iface"/>
      </controller:gazebo_ros_bumper>
    </sensor:contact>
    <material>Gazebo/Grey</material>
    <selfCollide>true</selfCollide>
  </gazebo>
  <joint name="LFJ2" type="revolute">
    <parent link="lfproximal"/>
    <child link="lfmiddle"/>
    <origin rpy="0 0 0" xyz="0 0 0.045"/>
    <axis xyz="1 0 0"/>
    <limit effort="10" lower="0" upper="1.57079632679" velocity="1.0"/>
    <dynamics damping="50.5"/>
  </joint>
  <transmission name="lfmiddle_transmission" type="sr_mechanism_meshes/J0Transmission">
    <actuator name="LFJ0"/>
    <joint1 name="LFJ1"/>
    <joint2 name="LFJ2"/>
    <mechanicalReduction>1</mechanicalReduction>
    <motorTorqueConstant>1</motorTorqueConstant>
    <pulsesPerRevolution>90000</pulsesPerRevolution>
  </transmission>
  <link name="lfdistal">
    <inertial>
      <mass value="0.010"/>
      <origin xyz="0 0 0.013"/>
      <inertia ixx="0.1" ixy="0.0" ixz="0.0" iyy="0.1" iyz="0.0" izz="0.0"/>
    </inertial>
    <visual>
      <origin rpy="0 0 0" xyz="0 0 0"/>
      <geometry name="distal_visual">
        <mesh filename="meshes/distal_ellipsoid.obj" />
      </geometry>
      <material name="Grey"/>
    </visual>
    <!--      <visual>
	   <origin xyz="0 0 0" rpy="0 0 0" />
	   <geometry name="nano17">
	   <mesh filename="meshes/nano17.obj"  />
	   </geometry>
	   <material name="Grey" />
	   </visual>-->
    <collision>
      <origin rpy="0 0 0" xyz="0 0 0"/>
      <geometry name="distal_collision_geom">
        <mesh filename="meshes/distal_ellipsoid.obj" />
      </geometry>
    </collision>
  </link>
  <gazebo reference="lfdistal">
    <sensor:contact name="lfdistal_contact_sensor">
      <geom>lfdistal_geom</geom>
      <updateRate>100.0</updateRate>
      <controller:gazebo_ros_bumper name="lfdistal_gazebo_ros_bumper_controller" plugin="libgazebo_ros_bumper.so">
        <alwaysOn>true</alwaysOn>
        <updateRate>100.0</updateRate>
        <frameName>lfdistal</frameName>
        <bumperTopicName>lfdistal_bumper</bumperTopicName>
        <interface:bumper name="lfdistal_gazebo_ros_bumper_iface"/>
      </controller:gazebo_ros_bumper>
    </sensor:contact>
    <mu1 value="500.0"/>
    <mu2 value="500.0"/>
    <kp value="10000000.0"/>
    <kd value="1.0"/>
    <material>Gazebo/Grey</material>
    <selfCollide>true</selfCollide>
  </gazebo>
  <joint name="LFJ1" type="revolute">
    <parent link="lfmiddle"/>
    <child link="lfdistal"/>
    <origin rpy="0 0 0" xyz="0 0 0.025"/>
    <axis xyz="1 0 0"/>
    <limit effort="10" lower="0" upper="1.57079632679" velocity="1.0"/>
    <dynamics damping="50.5"/>
  </joint>
  <link name="lftip">
    <inertial>
      <mass value="0.001"/>
      <inertia ixx="0.0" ixy="0.0" ixz="0.0" iyy="0.0" iyz="0.0" izz="0.0"/>
    </inertial>
  </link>
  <joint name="LFtip" type="fixed">
    <parent link="lfdistal"/>
    <child link="lftip"/>
    <origin rpy="0 0 0" xyz="0 0 0.026"/>
  </joint>
  <link name="thbase">
    <inertial>
      <mass value="0.010"/>
      <origin rpy="0 0 0" xyz="0 0 0"/>
      <inertia ixx="0.0" ixy="0.0" ixz="0.0" iyy="0.0" iyz="0.0" izz="0.1"/>
    </inertial>
    <visual>
      <origin rpy="0 0 0" xyz="0 0 0"/>
      <geometry name="thbase_visual">
        <box size="0.001 0.001 0.001"/>
      </geometry>
      <material name="shadow_thbase_material">
        <color rgba="0.5 0.5 0.5 1.0"/>
      </material>
    </visual>
    <collision>
      <origin rpy="0 0 0 " xyz="0 0 0"/>
      <geometry name="thbase_collision_geom">
        <box size="0.001 0.001 0.001"/>
      </geometry>
    </collision>
  </link>
  <gazebo reference="thbase">
    <sensor:contact name="thbase_contact_sensor">
      <geom>thbase_geom</geom>
      <updateRate>100.0</updateRate>
      <controller:gazebo_ros_bumper name="thbase_gazebo_ros_bumper_controller" plugin="libgazebo_ros_bumper.so">
        <alwaysOn>true</alwaysOn>
        <updateRate>100.0</updateRate>
        <frameName>thbase</frameName>
        <bumperTopicName>thbase_bumper</bumperTopicName>
        <interface:bumper name="thbase_gazebo_ros_bumper_iface"/>
      </controller:gazebo_ros_bumper>
    </sensor:contact>
    <material>Gazebo/Grey</material>
  </gazebo>
  <joint name="THJ5" type="revolute">
    <parent link="palm"/>
    <child link="thbase"/>
    <origin rpy="0 0.785398163397 0" xyz="0.034 -0.0085 0.029"/>
    <axis xyz="0 0 -1.0"/>
    <limit effort="10" lower="-1.047" upper="1.047" velocity="1.0"/>
    <dynamics damping="50.5"/>
  </joint>
  <transmission name="thbase_transmission" type="sr_mechanism_meshes/SimpleTransmission">
    <actuator name="THJ5"/>
    <joint name="THJ5"/>
    <mechanicalReduction>1</mechanicalReduction>
    <motorTorqueConstant>1</motorTorqueConstant>
    <pulsesPerRevolution>90000</pulsesPerRevolution>
  </transmission>
  <link name="thproximal">
    <inertial>
      <mass value="0.016"/>
      <origin rpy="0 0 0" xyz="0 0 0.019"/>
      <inertia ixx="0.1" ixy="0.0" ixz="0.0" iyy="0.1" iyz="0.0" izz="0.1"/>
    </inertial>
    <visual>
      <origin rpy="0 0 0" xyz="0 0 0"/>
      <geometry name="thproximal_visual">
        <mesh filename="meshes/TH3_z.obj" />
      </geometry>
      <material name="shadow_thproximal_material">
        <color rgba="0.2 0.2 0.2 1.0"/>
      </material>
    </visual>
    <collision>
      <origin rpy="0 0 0" xyz="0 0 0.019"/>
      <geometry name="thproximal_collision_geom">
        <box size="0.008 0.008 0.020"/>
      </geometry>
    </collision>
  </link>
  <gazebo reference="thproximal">
    <sensor:contact name="thproximal_contact_sensor">
      <geom>thproximal_geom</geom>
      <updateRate>100.0</updateRate>
      <controller:gazebo_ros_bumper name="thproximal_gazebo_ros_bumper_controller" plugin="libgazebo_ros_bumper.so">
        <alwaysOn>true</alwaysOn>
        <updateRate>100.0</updateRate>
        <frameName>thproximal</frameName>
        <bumperTopicName>thproximal_bumper</bumperTopicName>
        <interface:bumper name="thproximal_gazebo_ros_bumper_iface"/>
      </controller:gazebo_ros_bumper>
    </sensor:contact>
    <material>Gazebo/Grey</material>
  </gazebo>
  <joint name="THJ4" type="revolute">
    <parent link="thbase"/>
    <child link="thproximal"/>
    <origin rpy="0 0 0" xyz="0 0 0"/>
    <axis xyz="1.0 0 0"/>
    <limit effort="10" lower="0" upper="1.309" velocity="1.0"/>
    <dynamics damping="50.5"/>
  </joint>
  <transmission name="thproximal_transmission" type="sr_mechanism_meshes/SimpleTransmission">
    <actuator name="THJ4"/>
    <joint name="THJ4"/>
    <mechanicalReduction>1</mechanicalReduction>
    <motorTorqueConstant>1</motorTorqueConstant>
    <pulsesPerRevolution>90000</pulsesPerRevolution>
  </transmission>
  <link name="thhub">
    <inertial>
      <mass value="0.002"/>
      <origin rpy="0 0 0" xyz="0 0 0"/>
      <inertia ixx="0.1" ixy="0.0" ixz="0.0" iyy="0.1" iyz="0.0" izz="0.1"/>
    </inertial>
    <visual>
      <origin rpy="0 0 0" xyz="0 0 0"/>
      <geometry name="thhub_visual">
        <box size="0.001 0.001 0.001"/>
      </geometry>
      <material name="shadow_thhub_material">
        <color rgba="0.7 0.7 0.7 1.0"/>
      </material>
    </visual>
    <collision>
      <origin rpy="0 0 0 " xyz="0 0 0"/>
      <geometry name="thhub_collision_geom">
        <box size="0.001 0.001 0.001"/>
      </geometry>
    </collision>
  </link>
  <gazebo reference="thhub">
    <sensor:contact name="thhub_contact_sensor">
      <geom>thhub_geom</geom>
      <updateRate>100.0</updateRate>
      <controller:gazebo_ros_bumper name="thhub_gazebo_ros_bumper_controller" plugin="libgazebo_ros_bumper.so">
        <alwaysOn>true</alwaysOn>
        <updateRate>100.0</updateRate>
        <frameName>thhub</frameName>
        <bumperTopicName>thhub_bumper</bumperTopicName>
        <interface:bumper name="thhub_gazebo_ros_bumper_iface"/>
      </controller:gazebo_ros_bumper>
    </sensor:contact>
    <material>Gazebo/Grey</material>
  </gazebo>
  <joint name="THJ3" type="revolute">
    <parent link="thproximal"/>
    <child link="thhub"/>
    <origin rpy="0 0 0" xyz="0 0 0.038"/>
    <axis xyz="1 0 0"/>
    <limit effort="10" lower="-0.2618" upper="0.2618" velocity="1.0"/>
    <dynamics damping="50.5"/>
  </joint>
  <transmission name="thhub_transmission" type="sr_mechanism_meshes/SimpleTransmission">
    <actuator name="THJ3"/>
    <joint name="THJ3"/>
    <mechanicalReduction>1</mechanicalReduction>
    <motorTorqueConstant>1</motorTorqueConstant>
    <pulsesPerRevolution>90000</pulsesPerRevolution>
  </transmission>
  <link name="thmiddle">
    <inertial>
      <mass value="0.016"/>
      <origin rpy="0 0 0" xyz="0 0 0.016"/>
      <inertia ixx="0.1" ixy="0.0" ixz="0.0" iyy="0.1" iyz="0.0" izz="0.1"/>
    </inertial>
    <visual>
      <origin rpy="0 0 0" xyz="0 0 0"/>
      <geometry name="thmiddle_visual">
        <mesh filename="meshes/TH2_z.obj" />
      </geometry>
      <material name="shadow_thmiddle_material">
        <color rgba="0.2 0.2 0.2 1.0"/>
      </material>
    </visual>
    <collision>
      <origin rpy="0 0 0 " xyz="0 0 0.016"/>
      <geometry name="thmiddle_collision_geom">
        <box size="0.008 0.008 0.015"/>
      </geometry>
    </collision>
  </link>
  <gazebo reference="thmiddle">
    <sensor:contact name="thmiddle_contact_sensor">
      <geom>thmiddle_geom</geom>
      <updateRate>100.0</updateRate>
      <controller:gazebo_ros_bumper name="thmiddle_gazebo_ros_bumper_controller" plugin="libgazebo_ros_bumper.so">
        <alwaysOn>true</alwaysOn>
        <updateRate>100.0</updateRate>
        <frameName>thmiddle</frameName>
        <bumperTopicName>thmiddle_bumper</bumperTopicName>
        <interface:bumper name="thmiddle_gazebo_ros_bumper_iface"/>
      </controller:gazebo_ros_bumper>
    </sensor:contact>
    <material>Gazebo/Grey</material>
  </gazebo>
  <joint name="THJ2" type="revolute">
    <parent link="thhub"/>
    <child link="thmiddle"/>
    <origin rpy="0 0 0" xyz="0 0 0"/>
    <axis xyz="0 -1 0"/>
    <limit effort="10" lower="-0.5237" upper="0.5237" velocity="1.0"/>
    <dynamics damping="50.5"/>
  </joint>
  <transmission name="thmiddle_transmission" type="sr_mechanism_meshes/SimpleTransmission">
    <actuator name="THJ2"/>
    <joint name="THJ2"/>
    <mechanicalReduction>1</mechanicalReduction>
    <motorTorqueConstant>1</motorTorqueConstant>
    <pulsesPerRevolution>90000</pulsesPerRevolution>
  </transmission>
  <link name="thdistal">
    <inertial>
      <mass value="0.016"/>
      <origin rpy="0 0 0" xyz="0 0 0.01375"/>
      <inertia ixx="0.1" ixy="0.0" ixz="0.0" iyy="0.1" iyz="0.0" izz="0.1"/>
    </inertial>
    <visual>
      <origin rpy="0 0 0" xyz="0 0.002 0.0025"/>
      <geometry name="thdistal_visual">
        <mesh filename="meshes/distal_ellipsoid.obj" />
      </geometry>
      <material name="shadow_thmiddle_material">
        <color rgba="0.2 0.2 0.2 1.0"/>
      </material>
    </visual>
    <collision>
      <origin rpy="0 0 0 " xyz="0 0.002 0.0025"/>
      <geometry name="thmiddle_collision_geom">
        <mesh filename="meshes/distal_ellipsoid.obj" />
      </geometry>
    </collision>
  </link>
  <gazebo reference="thdistal">
    <sensor:contact name="thdistal_contact_sensor">
      <geom>thdistal_geom</geom>
      <updateRate>100.0</updateRate>
      <controller:gazebo_ros_bumper name="thdistal_gazebo_ros_bumper_controller" plugin="libgazebo_ros_bumper.so">
        <alwaysOn>true</alwaysOn>
        <updateRate>100.0</updateRate>
        <frameName>thdistal</frameName>
        <bumperTopicName>thdistal_bumper</bumperTopicName>
        <interface:bumper name="thdistal_gazebo_ros_bumper_iface"/>
      </controller:gazebo_ros_bumper>
    </sensor:contact>
    <mu1 value="500.0"/>
    <mu2 value="500.0"/>
    <kp value="10000000.0"/>
    <kd value="1.0"/>
    <material>Gazebo/Grey</material>
    <selfCollide>true</selfCollide>
  </gazebo>
  <joint name="THJ1" type="revolute">
    <parent link="thmiddle"/>
    <child link="thdistal"/>
    <origin rpy="0 0 -1.570796327" xyz="0 0 0.032"/>
    <axis xyz="1 0 0"/>
    <limit effort="10" lower="0" upper="1.571" velocity="1.0"/>
    <dynamics damping="50.5"/>
  </joint>
  <link name="thtip">
    <inertial>
      <mass value="0.001"/>
      <inertia ixx="0.0" ixy="0.0" ixz="0.0" iyy="0.0" iyz="0.0" izz="0.0"/>
    </inertial>
  </link>
  <joint name="thtip" type="fixed">
    <parent link="thdistal"/>
    <child link="thtip"/>
    <origin rpy="0 0 0" xyz="0 0 0.0275"/>
  </joint>
  <transmission name="thdistal_transmission" type="sr_mechanism_meshes/SimpleTransmission">
    <actuator name="THJ1"/>
    <joint name="THJ1"/>
    <mechanicalReduction>1</mechanicalReduction>
    <motorTorqueConstant>1</motorTorqueConstant>
    <pulsesPerRevolution>90000</pulsesPerRevolution>
  </transmission>
</robot>
